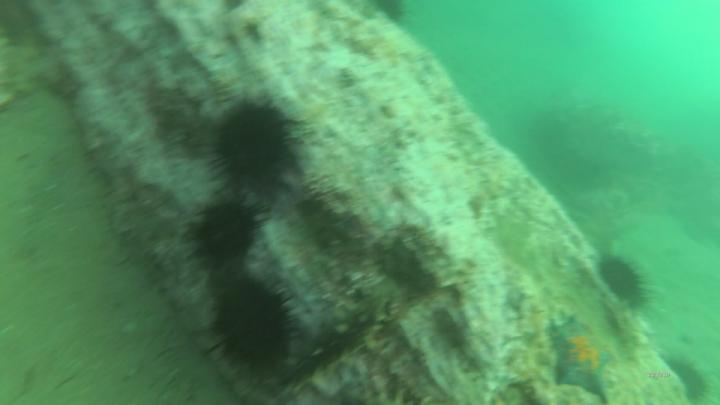echinus: (202, 94, 315, 206), (194, 268, 297, 376), (176, 191, 279, 274), (594, 244, 658, 315)
starfish: (543, 315, 621, 405)
